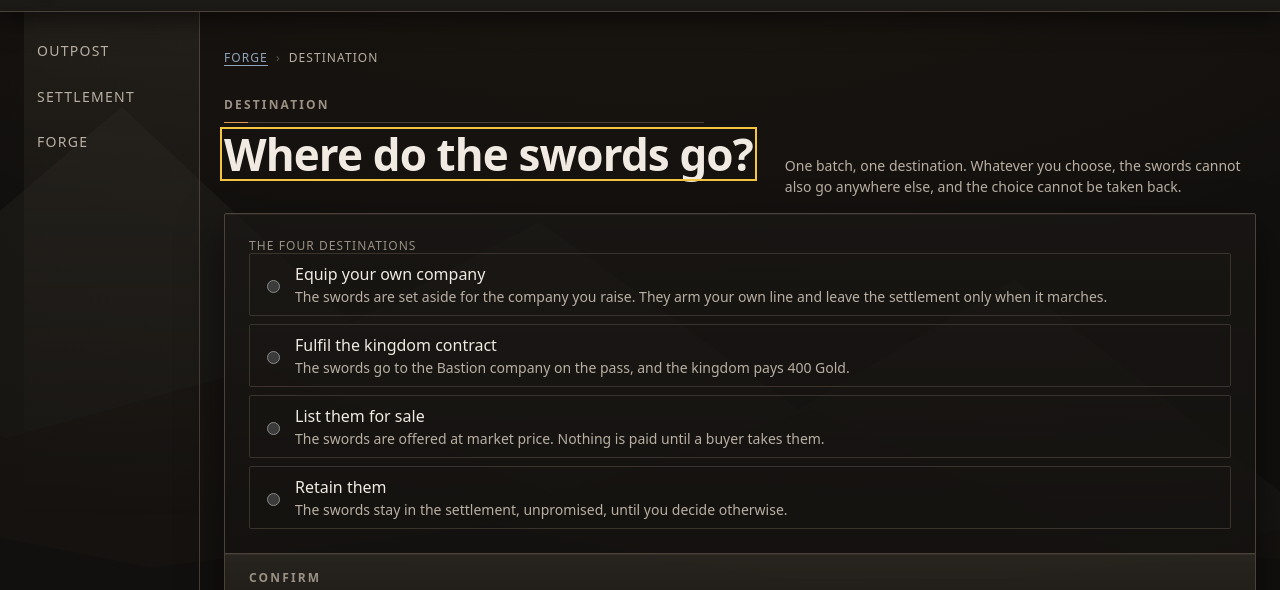
The destination — what each one does › records the asking price when listed, and credits no Gold
The image size is (1280, 590).
Click the radio button labelled "List them for sale" at {"x": 274, "y": 428}, box 267,422 -> 280,435
(page scrolled)
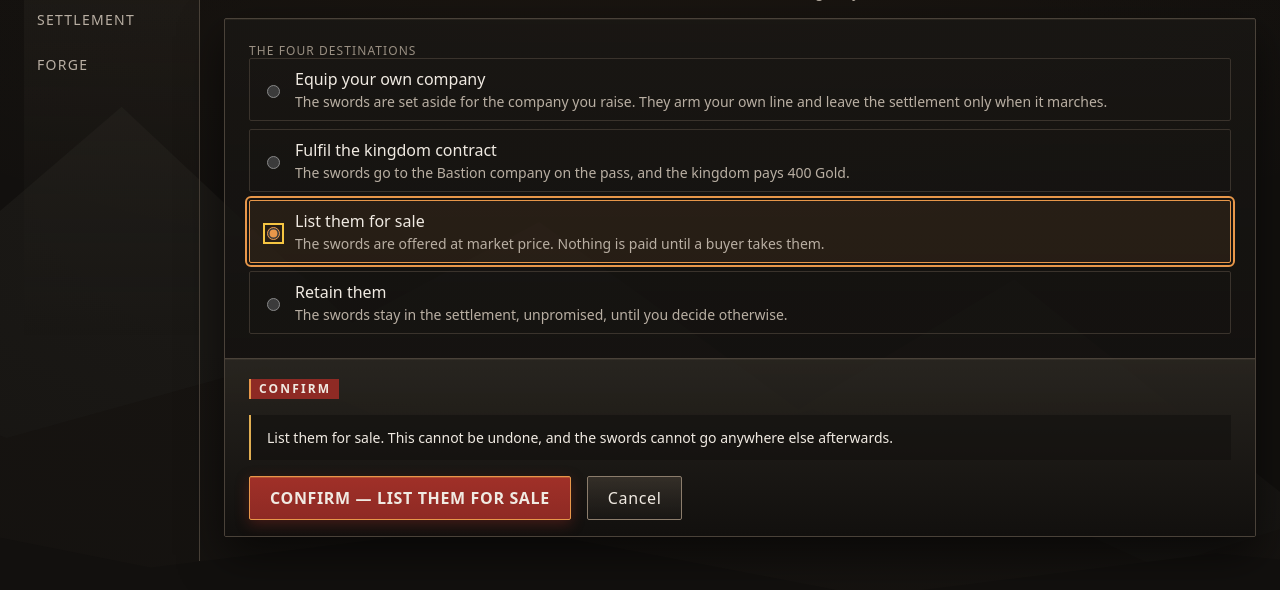
Click the button "Confirm — List them for sale" at {"x": 410, "y": 498}, box 249,476 -> 571,520
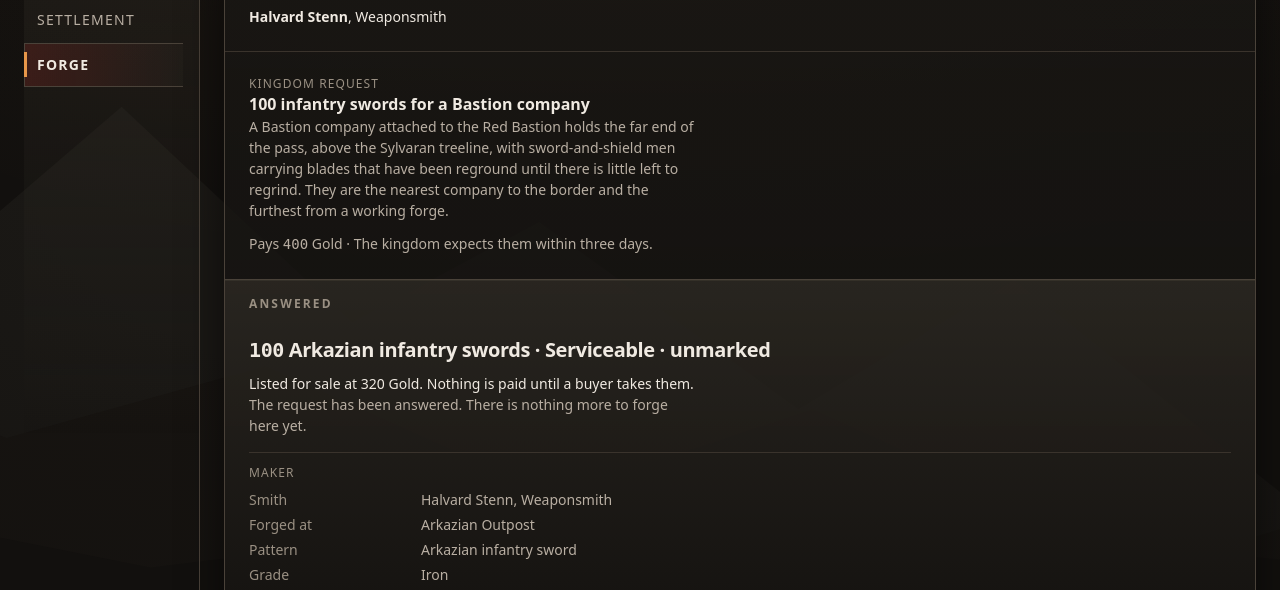
Expected: the text "Listed for sale at 320 Gold" is shown, 249,374 -> 694,393
